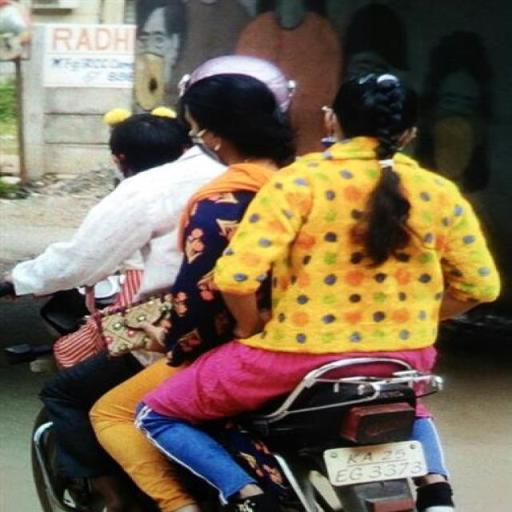tripple riding: (0, 48, 510, 402)
